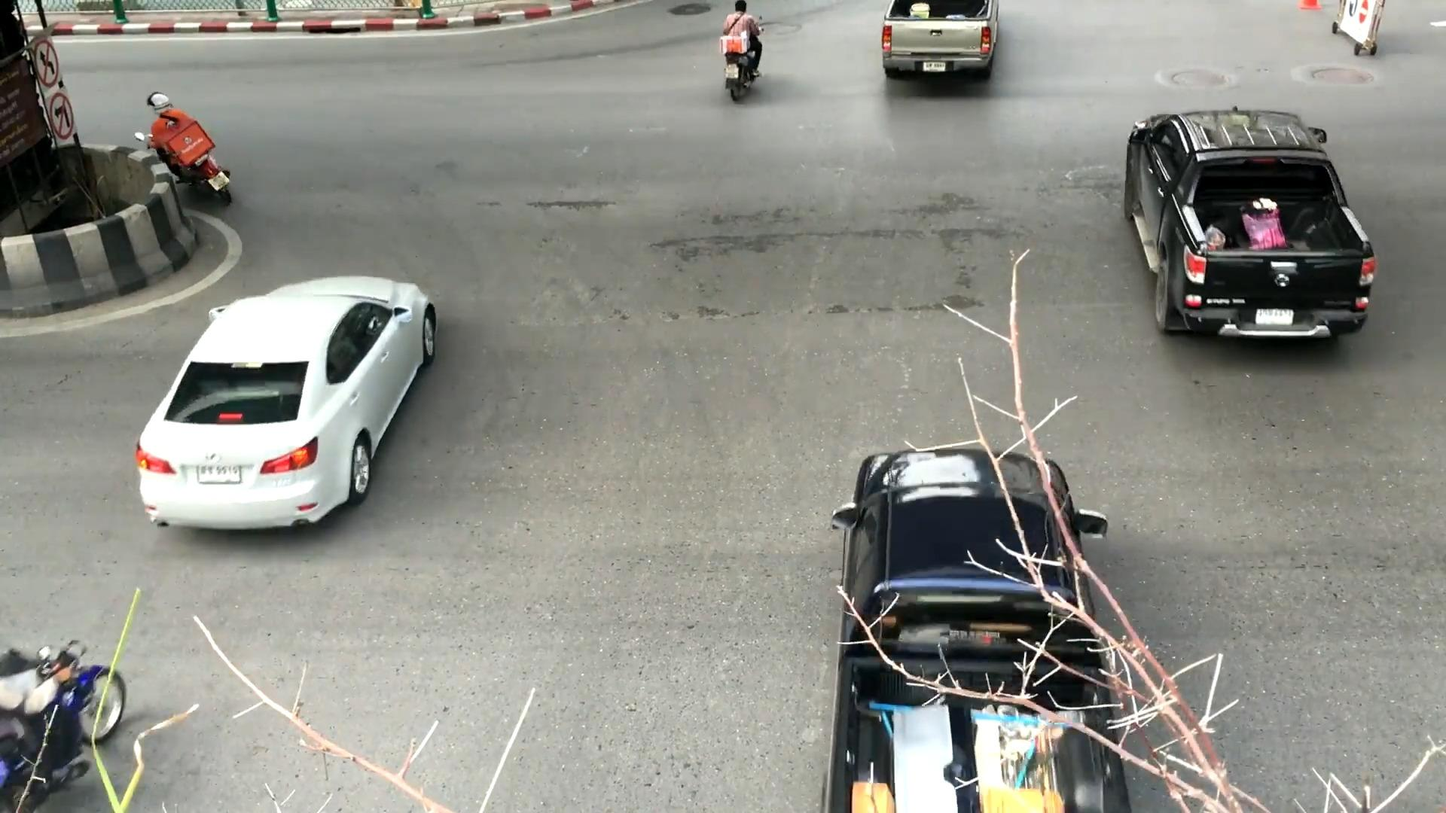driver: (134, 92, 233, 206), (719, 0, 766, 103)
helmet: (147, 91, 170, 114)
no-helmet: (735, 0, 746, 13)
